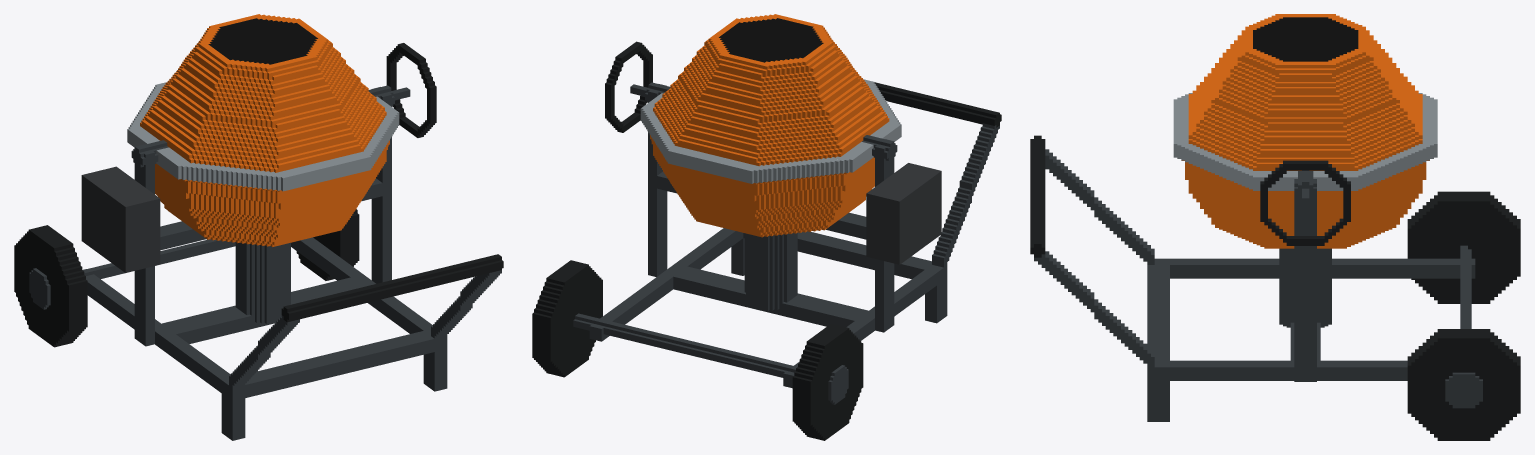
Rendered from con_mix_foldable.glb.
The picture shows the model from 3 angles, left to right: view 1: azimuth 30°, elevation 25°; view 2: azimuth 150°, elevation 25°; view 3: azimuth 270°, elevation 25°; orthographic projection. The views are drawn at different scales.
Parts seen in each view (by area): view 1: con_mix_foldable:compound; view 2: con_mix_foldable:compound; view 3: con_mix_foldable:compound.
Part boxes in pixels (box(x1,y1,x2,y2)): con_mix_foldable:compound: box(14, 14, 503, 440); con_mix_foldable:compound: box(532, 14, 1001, 440); con_mix_foldable:compound: box(1030, 14, 1520, 440).
Size of the model in its own units: 0.98 by 0.96 by 1.3.
